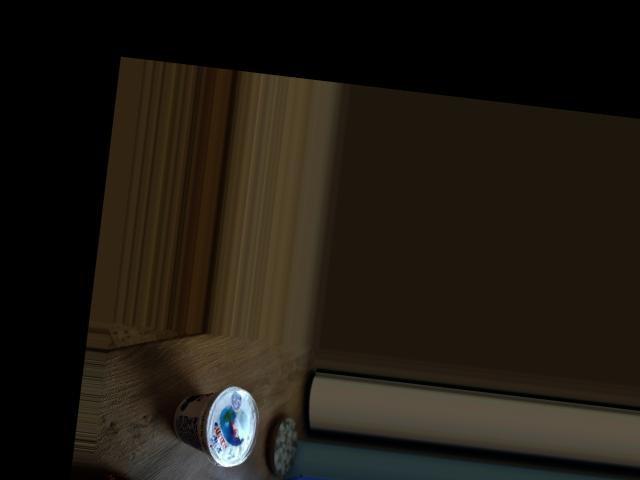cotage: (157, 375, 265, 456)
